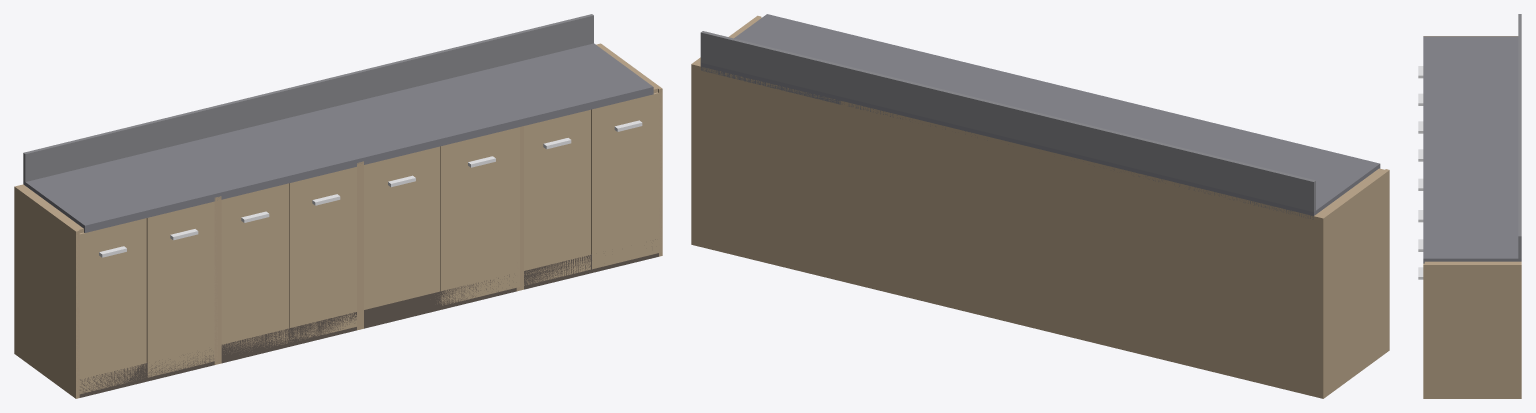
The picture shows the model from 3 angles, left to right: view 1: azimuth 30°, elevation 25°; view 2: azimuth 150°, elevation 25°; view 3: azimuth 270°, elevation 25°; orthographic projection. The views are drawn at different scales.
Visible parts, largest first — view 1: Countertop, Backsplash, Lower_Cabinet_Sink_Door_Right, Lower_Cabinet_4_Door_Right, Lower_Cabinet_1_Door_Right, Lower_Cabinet_1_Door_Left, Lower_Cabinet_1_Left_Side, Lower_Cabinet_Sink_Door_Left, Lower_Cabinet_2_Door_Right, Lower_Cabinet_4_Door_Left, Lower_Cabinet_2_Door_Left, Lower_Cabinet_2_Toe_Kick (+9 smaller); view 2: Lower_Cabinet_Sink_Back, Lower_Cabinet_1_Back, Lower_Cabinet_2_Back, Lower_Cabinet_4_Back, Countertop, Backsplash, Lower_Cabinet_1_Left_Side, Lower_Cabinet_4_Left_Side, Lower_Cabinet_2_Left_Side; view 3: Countertop, Lower_Cabinet_4_Right_Side, Backsplash, Lower_Cabinet_4_Back, Lower_Cabinet_4_Top.
Boxes of the visible parts, x1=… form: Countertop: x1=23, y1=43, x2=653, y2=232; Backsplash: x1=23, y1=14, x2=593, y2=181; Lower_Cabinet_Sink_Door_Right: x1=440, y1=127, x2=519, y2=305; Lower_Cabinet_4_Door_Right: x1=591, y1=92, x2=661, y2=269; Lower_Cabinet_1_Door_Right: x1=146, y1=201, x2=217, y2=377; Lower_Cabinet_1_Door_Left: x1=76, y1=218, x2=146, y2=394; Lower_Cabinet_1_Left_Side: x1=14, y1=185, x2=79, y2=398; Lower_Cabinet_Sink_Door_Left: x1=364, y1=146, x2=439, y2=309; Lower_Cabinet_2_Door_Right: x1=289, y1=167, x2=356, y2=341; Lower_Cabinet_4_Door_Left: x1=524, y1=109, x2=590, y2=285; Lower_Cabinet_2_Door_Left: x1=221, y1=183, x2=288, y2=354; Lower_Cabinet_2_Toe_Kick: x1=221, y1=312, x2=356, y2=363; Lower_Cabinet_Sink_Back: x1=844, y1=102, x2=1016, y2=323; Lower_Cabinet_1_Back: x1=1170, y1=181, x2=1325, y2=398; Lower_Cabinet_2_Back: x1=1017, y1=144, x2=1170, y2=361; Lower_Cabinet_4_Back: x1=691, y1=62, x2=840, y2=280; Countertop: x1=700, y1=14, x2=1380, y2=219; Backsplash: x1=700, y1=31, x2=1315, y2=211; Lower_Cabinet_1_Left_Side: x1=1319, y1=169, x2=1389, y2=398; Lower_Cabinet_4_Left_Side: x1=840, y1=101, x2=844, y2=281; Lower_Cabinet_2_Left_Side: x1=1166, y1=180, x2=1170, y2=361; Countertop: x1=1423, y1=36, x2=1521, y2=263; Lower_Cabinet_4_Right_Side: x1=1423, y1=263, x2=1521, y2=398; Backsplash: x1=1518, y1=14, x2=1521, y2=258; Lower_Cabinet_4_Back: x1=1518, y1=261, x2=1521, y2=398; Lower_Cabinet_4_Top: x1=1424, y1=261, x2=1519, y2=263.
Bounding box in the file's own units: 3.3 × 1.07 × 0.63.
